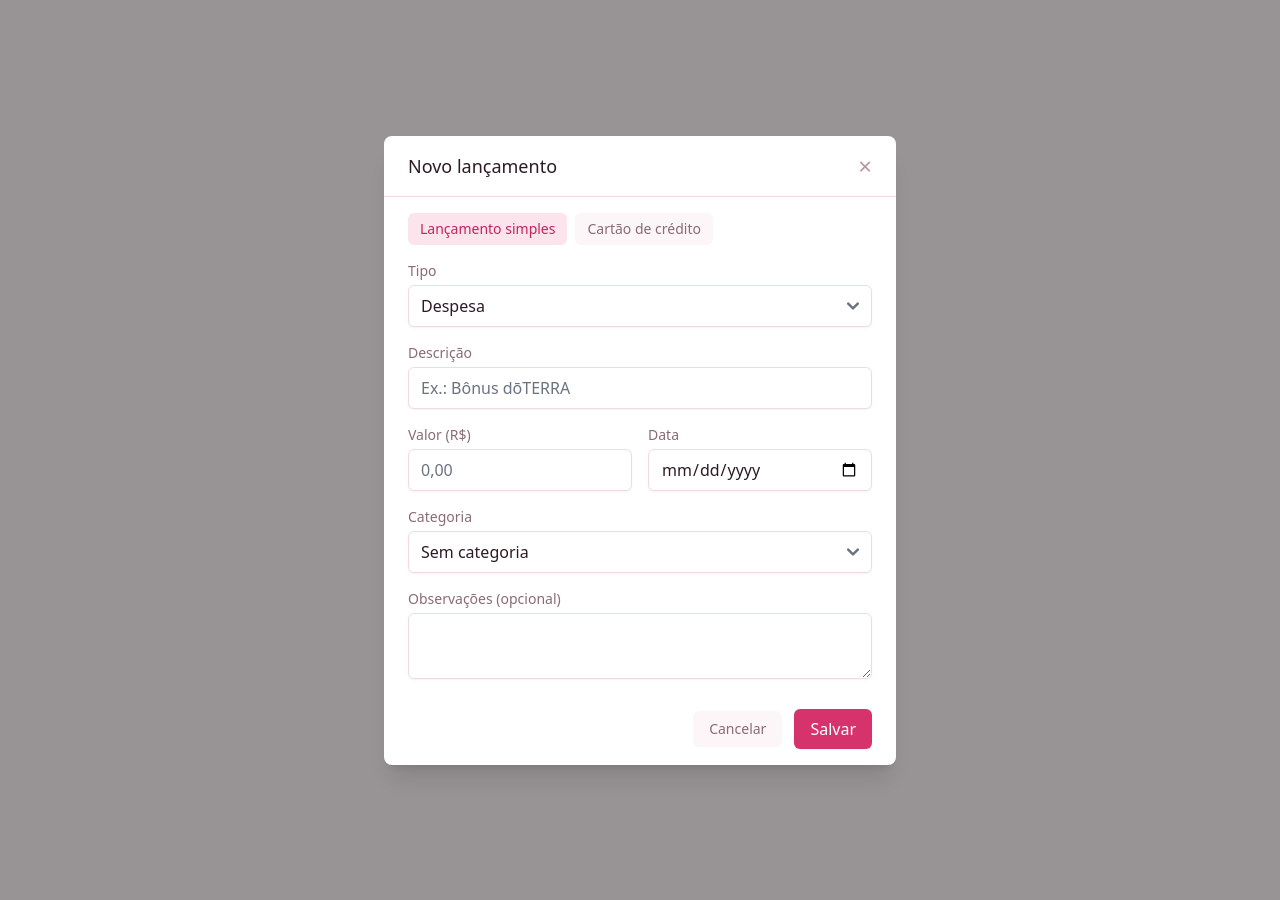
it: FinancialTransactionModal payment type branch › replaces the form with the credit-card fields when switched
Click the button "Cartão de crédito": (644, 228) [576,212,713,244]
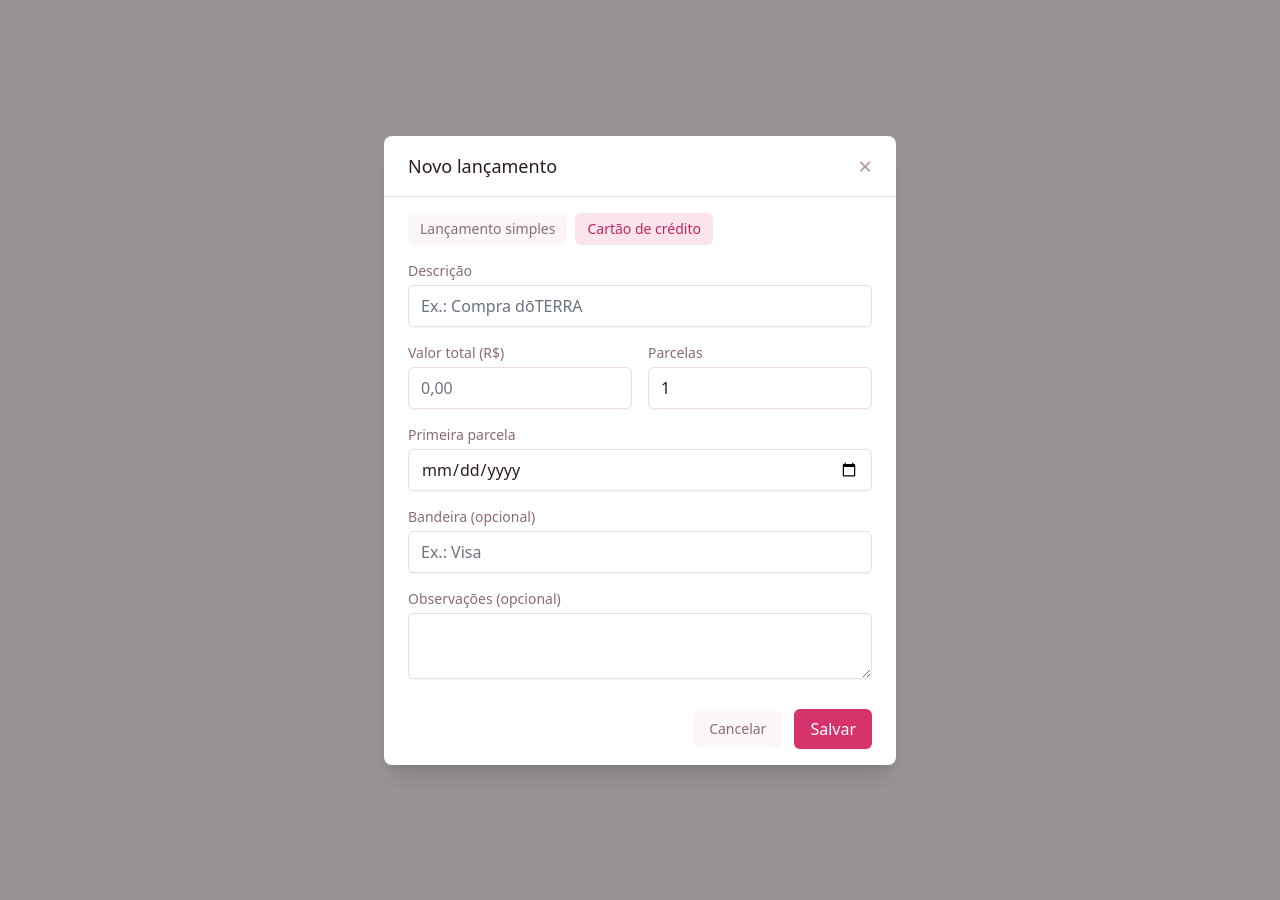
Expected: the number field labelled "Parcelas" is shown, [648,366,872,408]
Expected: the date field labelled "Primeira parcela" is shown, [408,448,872,490]
Expected: the label labelled "Tipo" is gone
